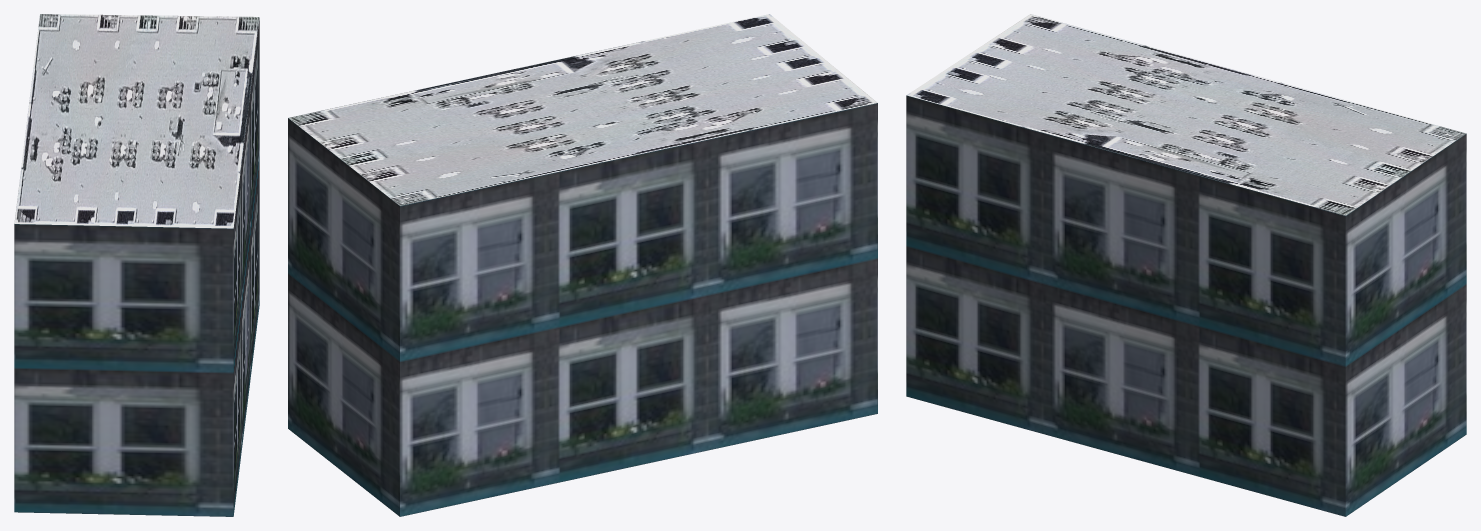
File: ResTex__549.fbx
3 views of the same model, side by side, from view 1: azimuth 30°, elevation 25°; view 2: azimuth 150°, elevation 25°; view 3: azimuth 270°, elevation 25° (orthographic). The views are drawn at different scales.
Parts seen in each view (by area): view 1: CityEngineMaterial_11_m, CityEngineMaterial_m; view 2: CityEngineMaterial_11_m, CityEngineMaterial_m; view 3: CityEngineMaterial_11_m, CityEngineMaterial_m.
Boxes of the visible parts, x1,y1,x2,y2 form: CityEngineMaterial_11_m: (14, 18, 259, 516); CityEngineMaterial_m: (14, 14, 259, 228); CityEngineMaterial_11_m: (288, 103, 877, 516); CityEngineMaterial_m: (288, 14, 877, 205); CityEngineMaterial_11_m: (906, 95, 1466, 516); CityEngineMaterial_m: (906, 14, 1466, 215).
Bounding box in the file's own units: 8.63 × 6 × 10.12.
Materials: 2 (2 with a texture image).
